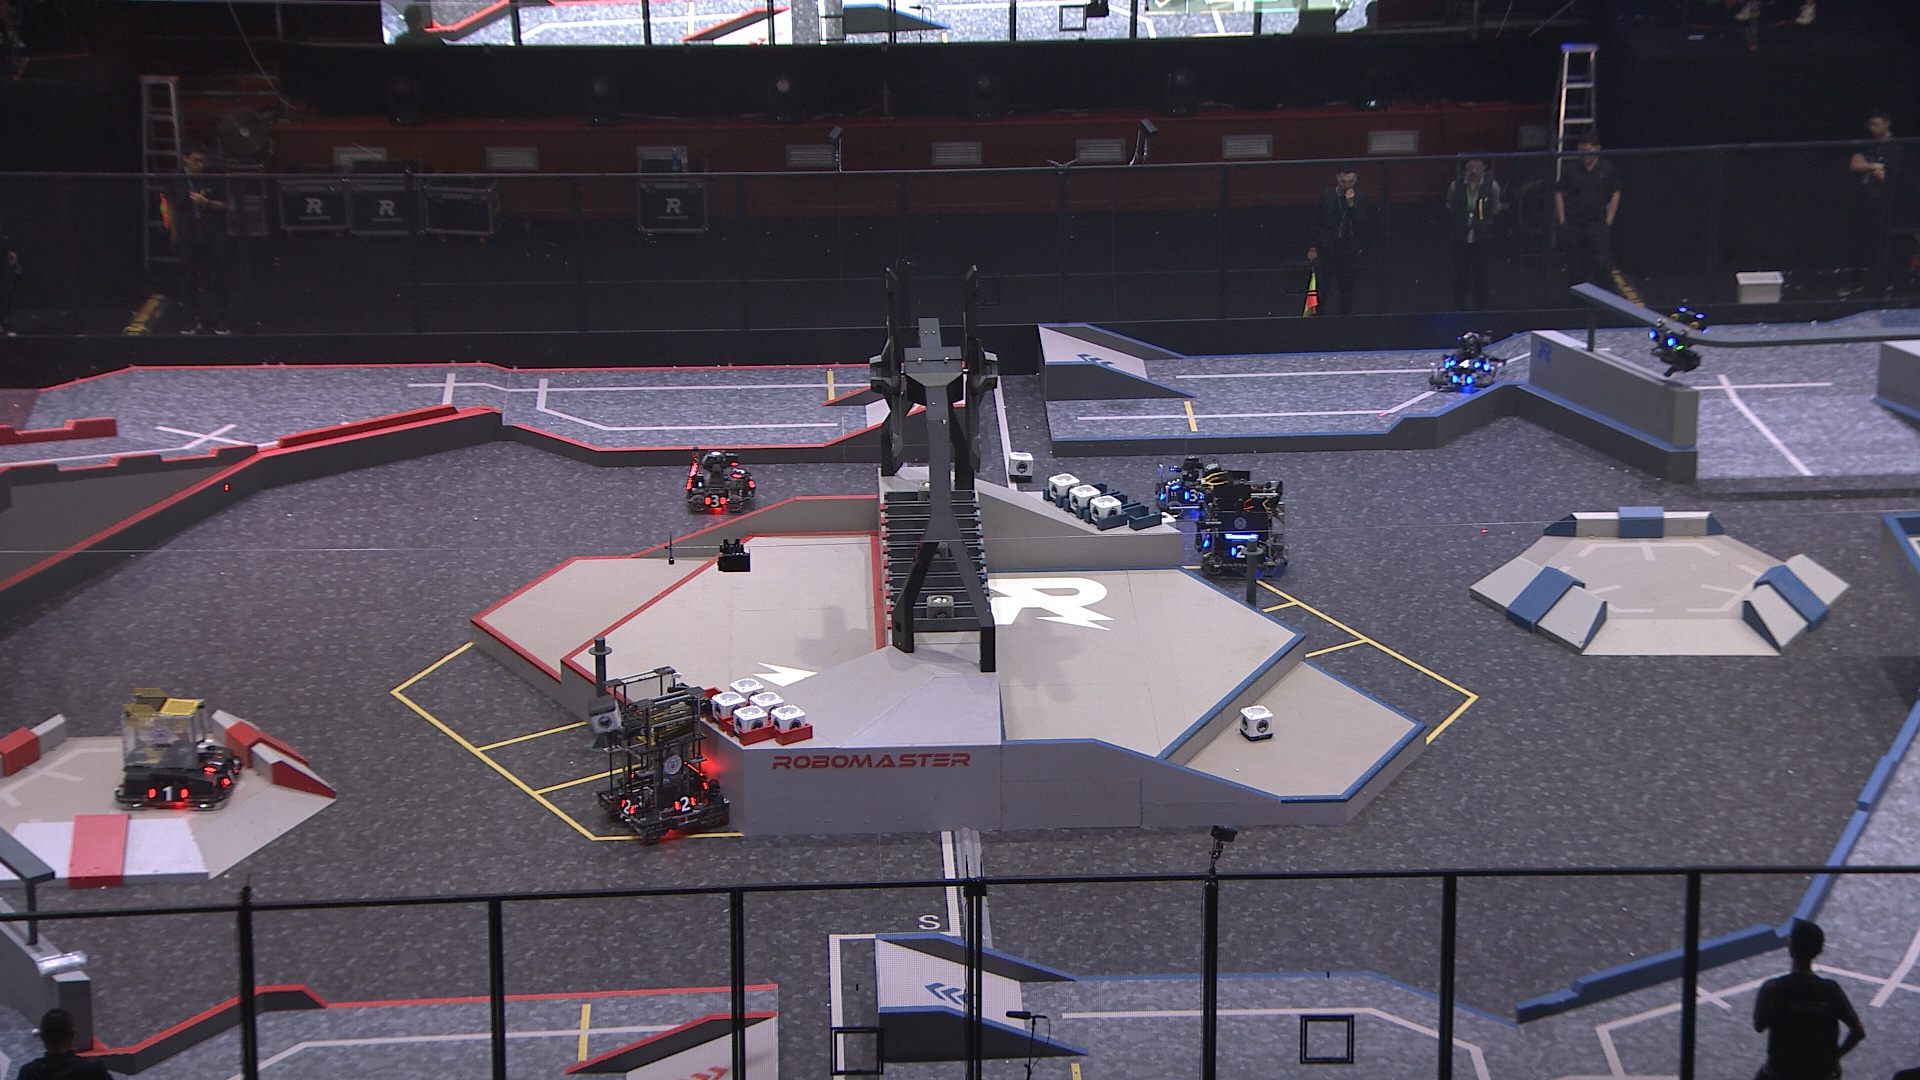armor: (144, 783, 189, 803), (200, 746, 224, 777), (1648, 328, 1677, 349), (669, 794, 698, 814), (222, 761, 240, 789), (703, 491, 728, 510), (1449, 356, 1482, 371), (1162, 473, 1183, 493), (1230, 542, 1251, 560), (1183, 489, 1207, 505), (1158, 483, 1172, 506), (618, 798, 636, 818), (1481, 353, 1498, 373), (1451, 371, 1472, 386), (1199, 526, 1212, 546), (731, 465, 749, 479), (745, 472, 757, 491)
car: (593, 669, 733, 845), (113, 687, 245, 814), (1195, 465, 1298, 576), (680, 447, 764, 517), (1425, 328, 1505, 392), (1153, 455, 1222, 514)
watcher: (1644, 295, 1712, 378)
